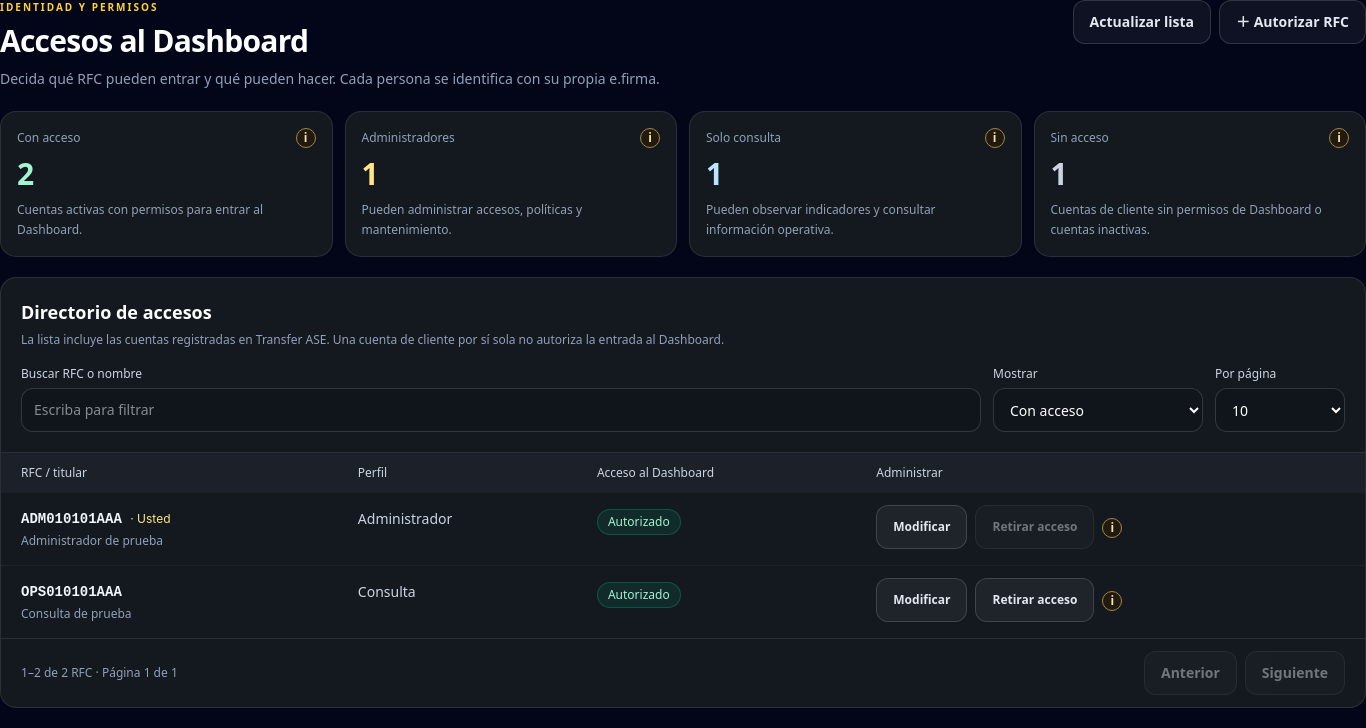
administración de accesos con e.firma › retira solo los roles del Dashboard sin desactivar la cuenta ni borrar registros
What coordinates should you click on to do the following:
click the button "Retirar acceso" in the row of "OPS010101AAA"
I would click on:
 (1035, 600)
Its box is [976, 578, 1094, 622].
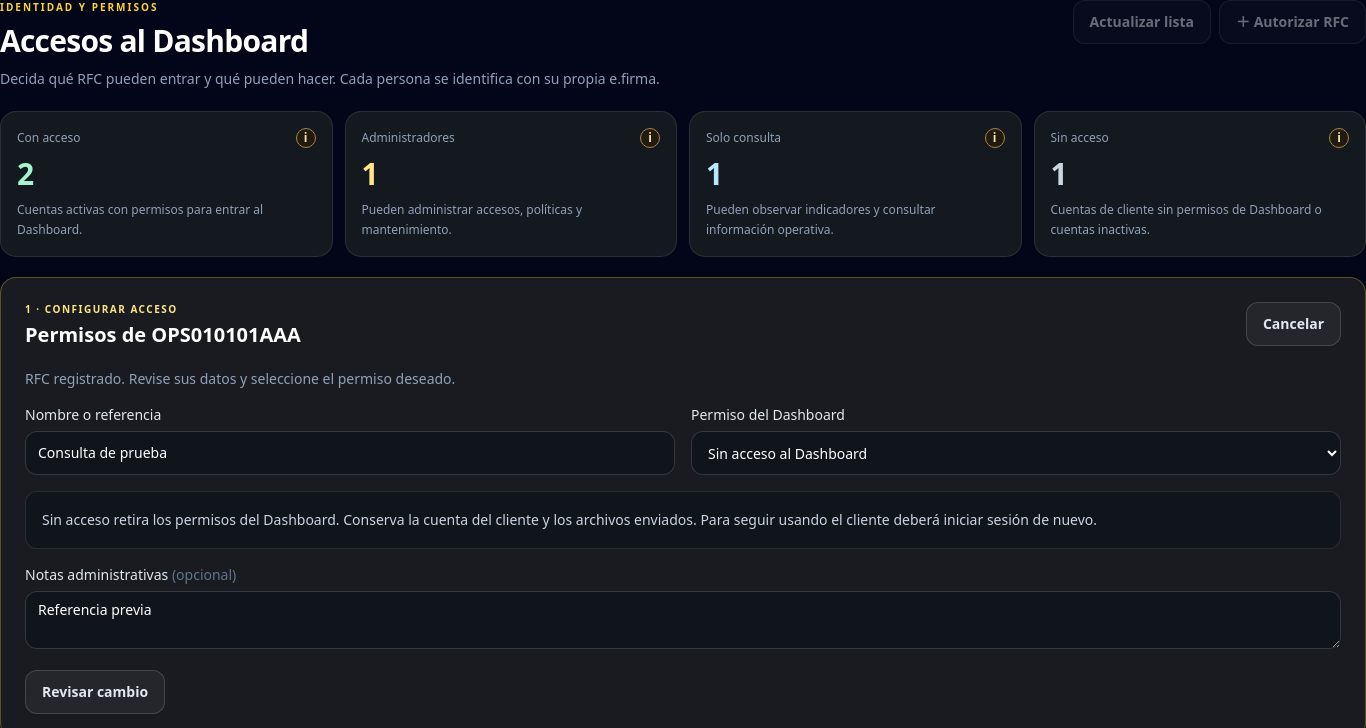
What coordinates should you click on to do the following:
click the button "Revisar cambio"
I would click on:
 (95, 692)
Its box is [25, 670, 165, 714].
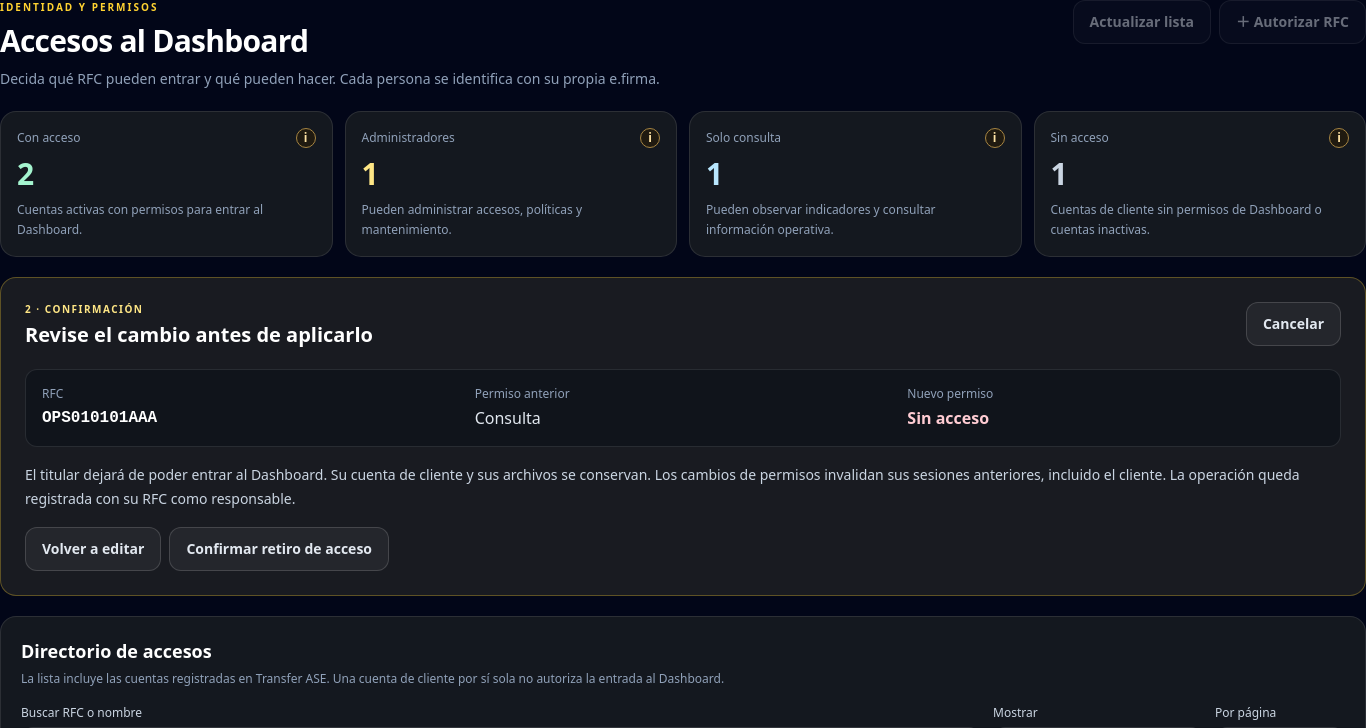
What coordinates should you click on to do the following:
click the button "Confirmar retiro de acceso"
I would click on:
 (279, 549)
Its box is [169, 527, 389, 571].
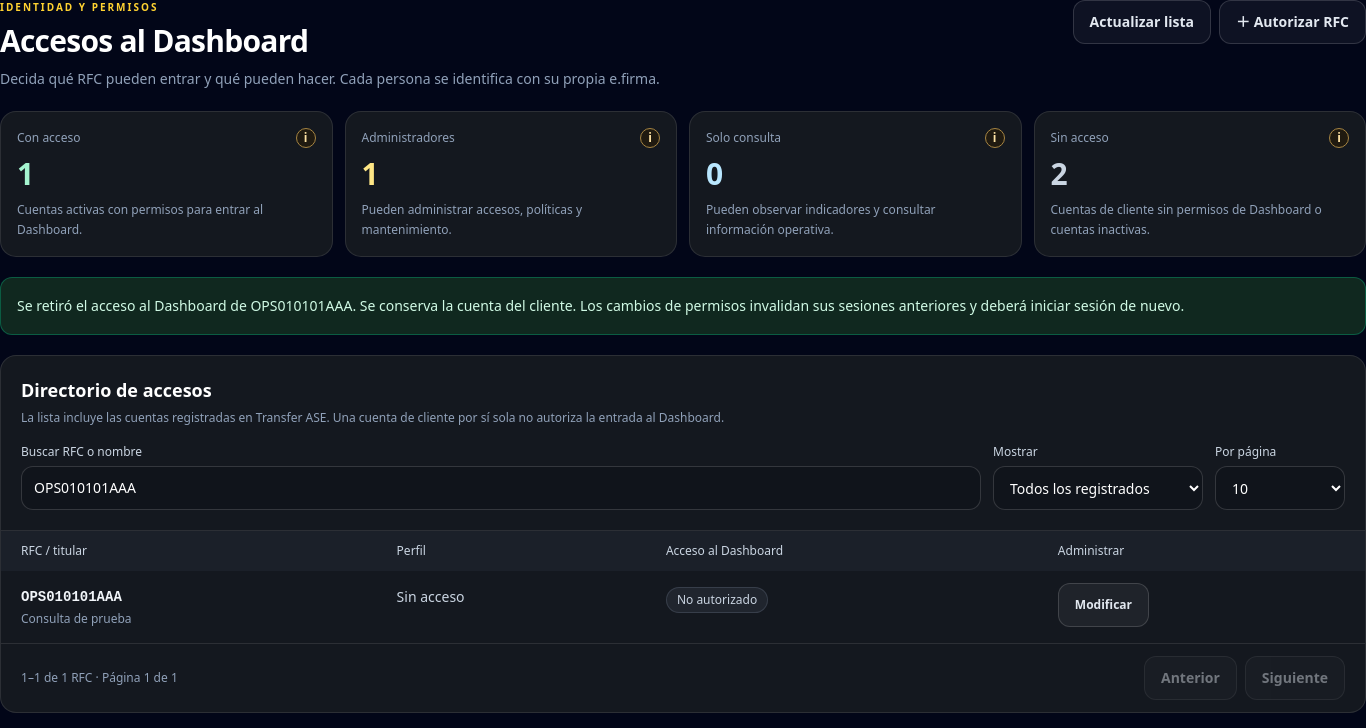
Check: the text "Se conserva la cuenta del cliente" is shown, box [17, 296, 1184, 315]
Check: the text "No autorizado" is shown, box [666, 587, 768, 613]
